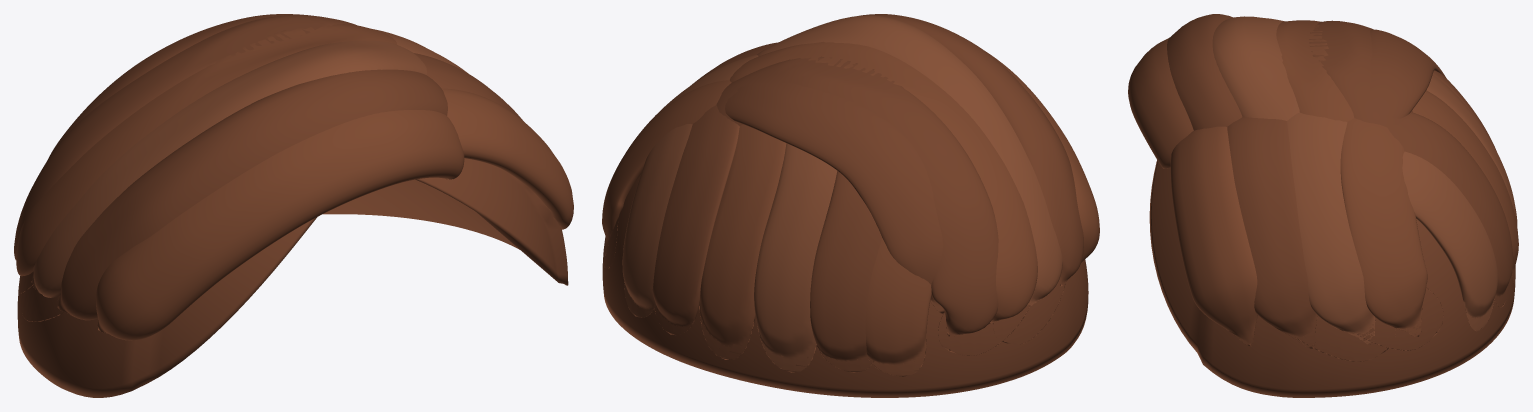
File: Masculine-sidepart-tank-pashmina250-hair.glb
3 renders of one model, left to right at view 1: azimuth 30°, elevation 25°; view 2: azimuth 150°, elevation 25°; view 3: azimuth 270°, elevation 25°, orthographic. The views are drawn at different scales.
Parts seen in each view (by area): view 1: 226 hair / Hair / sculpted 0.001, 226 hair / Hair / sculpted 1.001, 226 hair / Hair / sculpted 1.002, 226 hair / Hair / sculpted 2.001; view 2: 226 hair / Hair / sculpted 1.001, 226 hair / Hair / sculpted 0.001, 226 hair / Hair / sculpted 2.001, 226 hair / Hair / sculpted 1.002; view 3: 226 hair / Hair / sculpted 0.001, 226 hair / Hair / sculpted 1.001, 226 hair / Hair / sculpted 2.001, 226 hair / Hair / sculpted 1.002.
Part boxes in pixels (left/top/right/bottom): 226 hair / Hair / sculpted 0.001: left=16, top=24, right=573, bottom=340; 226 hair / Hair / sculpted 1.001: left=14, top=14, right=523, bottom=322; 226 hair / Hair / sculpted 1.002: left=17, top=158, right=568, bottom=397; 226 hair / Hair / sculpted 2.001: left=31, top=33, right=468, bottom=297; 226 hair / Hair / sculpted 1.001: left=603, top=14, right=1083, bottom=372; 226 hair / Hair / sculpted 0.001: left=602, top=41, right=1099, bottom=376; 226 hair / Hair / sculpted 2.001: left=622, top=15, right=1062, bottom=372; 226 hair / Hair / sculpted 1.002: left=602, top=174, right=1088, bottom=397; 226 hair / Hair / sculpted 0.001: left=1128, top=20, right=1518, bottom=346; 226 hair / Hair / sculpted 1.001: left=1167, top=14, right=1513, bottom=361; 226 hair / Hair / sculpted 2.001: left=1212, top=16, right=1517, bottom=344; 226 hair / Hair / sculpted 1.002: left=1149, top=160, right=1515, bottom=397.
Bounding box in the file's own units: 0.9759 × 0.5554 × 0.7604.
